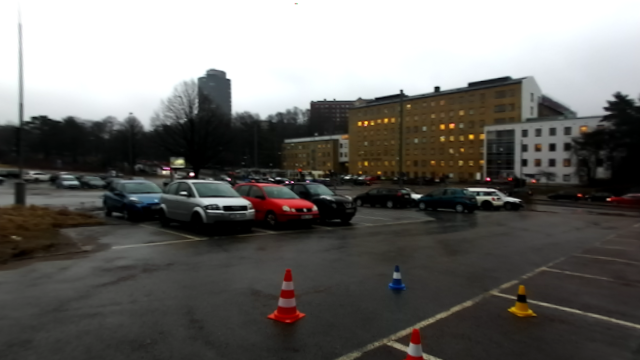blue: (388, 264, 405, 290)
orange2: (267, 267, 307, 324)
yellow: (505, 283, 535, 318)
